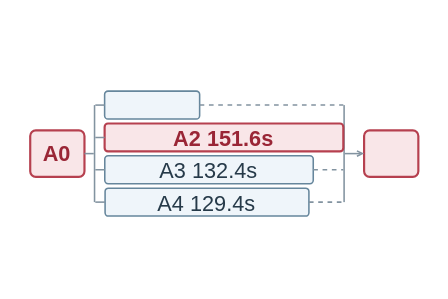
This 448x299 diagram has some shape labels left out. The shapes that lost their labels are listed below. From the top down, each one's centre as x and y in pixels, then its label:
At (151,104): "A1 60.4s".
At (390,152): "A5".
